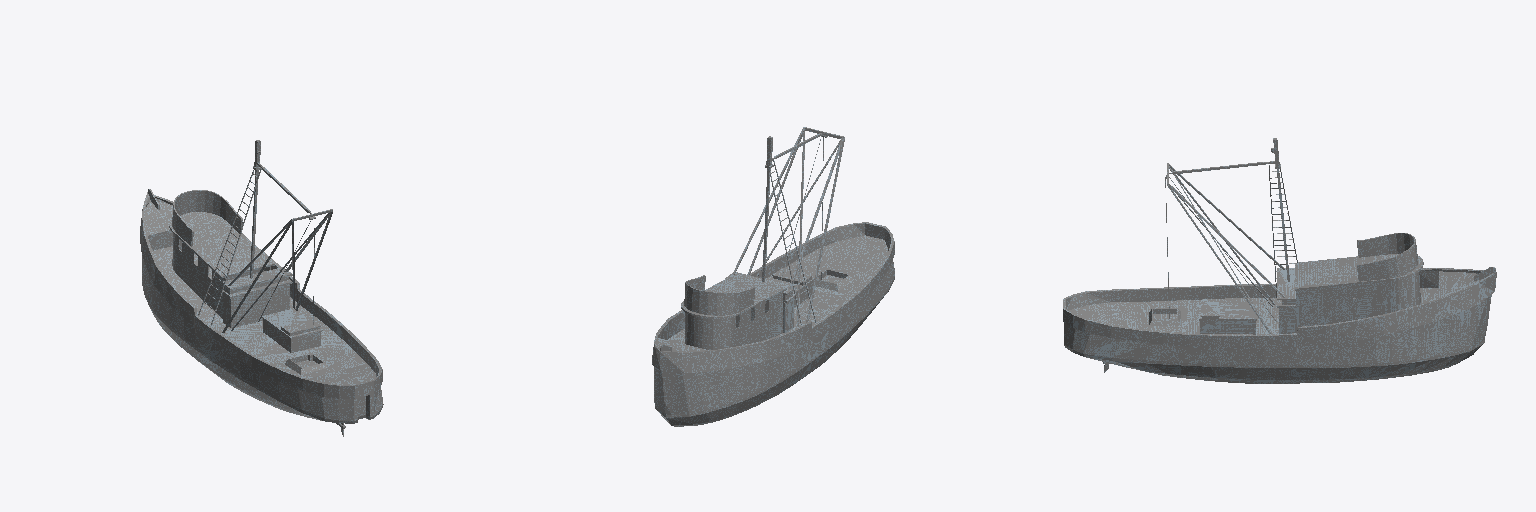
The picture shows the model from 3 angles: view 1: azimuth 30°, elevation 25°; view 2: azimuth 150°, elevation 25°; view 3: azimuth 270°, elevation 25°; orthographic projection.
Visible parts, largest first — view 1: Mesh9 smdimport1 skpEF85_1 Model, Mesh11 smdimport1 skpEF85_1 Model, Mesh15 smdimport1 skpEF85_1 Model, Mesh2 smdimport1 skpEF85_1 Model, Mesh58 smdimport1 skpEF85_1 Model, Mesh47 smdimport1 skpEF85_1 Model, Mesh37 smdimport1 skpEF85_1 Model, Mesh46 smdimport1 skpEF85_1 Model, Mesh55 smdimport1 skpEF85_1 Model; view 2: Mesh9 smdimport1 skpEF85_1 Model, Mesh11 smdimport1 skpEF85_1 Model, Mesh2 smdimport1 skpEF85_1 Model, Mesh18 smdimport1 skpEF85_1 Model, Mesh15 smdimport1 skpEF85_1 Model, Mesh37 smdimport1 skpEF85_1 Model, Mesh60 smdimport1 skpEF85_1 Model, Mesh21 smdimport1 skpEF85_1 Model; view 3: Mesh11 smdimport1 skpEF85_1 Model, Mesh9 smdimport1 skpEF85_1 Model, Mesh2 smdimport1 skpEF85_1 Model, Mesh15 smdimport1 skpEF85_1 Model, Mesh81 smdimport1 skpEF85_1 Model, Mesh18 smdimport1 skpEF85_1 Model, Mesh79 smdimport1 skpEF85_1 Model, Mesh80 smdimport1 skpEF85_1 Model, Mesh47 smdimport1 skpEF85_1 Model, Mesh37 smdimport1 skpEF85_1 Model, Mesh46 smdimport1 skpEF85_1 Model.
Part boxes in pixels (x1,y1,x2,y2): Mesh9 smdimport1 skpEF85_1 Model: (140,192,382,398); Mesh11 smdimport1 skpEF85_1 Model: (142,256,383,423); Mesh15 smdimport1 skpEF85_1 Model: (169,212,274,277); Mesh2 smdimport1 skpEF85_1 Model: (172,190,242,246); Mesh58 smdimport1 skpEF85_1 Model: (223,284,289,327); Mesh47 smdimport1 skpEF85_1 Model: (263,319,320,352); Mesh37 smdimport1 skpEF85_1 Model: (222,209,332,332); Mesh46 smdimport1 skpEF85_1 Model: (261,308,322,338); Mesh55 smdimport1 skpEF85_1 Model: (221,267,292,290); Mesh9 smdimport1 skpEF85_1 Model: (652,222,894,372); Mesh11 smdimport1 skpEF85_1 Model: (654,261,894,426); Mesh2 smdimport1 skpEF85_1 Model: (684,275,754,315); Mesh18 smdimport1 skpEF85_1 Model: (685,313,733,349); Mesh15 smdimport1 skpEF85_1 Model: (681,275,786,318); Mesh37 smdimport1 skpEF85_1 Model: (747,127,844,322); Mesh60 smdimport1 skpEF85_1 Model: (765,292,782,339); Mesh21 smdimport1 skpEF85_1 Model: (762,136,773,281); Mesh11 smdimport1 skpEF85_1 Model: (1064,271,1491,383); Mesh9 smdimport1 skpEF85_1 Model: (1063,268,1496,347); Mesh2 smdimport1 skpEF85_1 Model: (1357,233,1417,281); Mesh15 smdimport1 skpEF85_1 Model: (1295,254,1423,290); Mesh81 smdimport1 skpEF85_1 Model: (1296,288,1323,332); Mesh18 smdimport1 skpEF85_1 Model: (1393,272,1420,310); Mesh79 smdimport1 skpEF85_1 Model: (1359,282,1382,318); Mesh80 smdimport1 skpEF85_1 Model: (1330,285,1352,323); Mesh47 smdimport1 skpEF85_1 Model: (1200,321,1255,334); Mesh37 smdimport1 skpEF85_1 Model: (1167,163,1274,333); Mesh46 smdimport1 skpEF85_1 Model: (1199,304,1256,320).
Size of the model in its own units: 1.78 by 3.74 by 6.3.